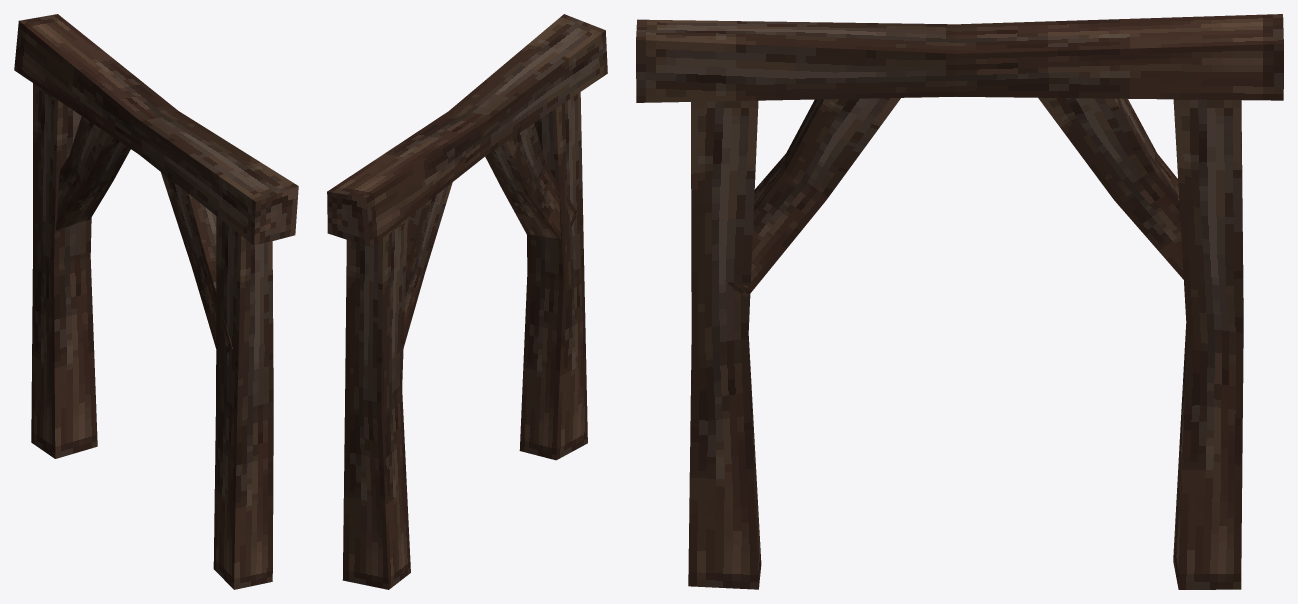
File: Wooden_Arch.fbx
The picture shows the model from 3 angles, left to right: view 1: azimuth 30°, elevation 25°; view 2: azimuth 150°, elevation 25°; view 3: azimuth 270°, elevation 25°; orthographic projection. The views are drawn at different scales.
Visible parts, largest first — view 1: Wooden Arch; view 2: Wooden Arch; view 3: Wooden Arch.
Part boxes in pixels (box(x1,y1,x2,y2)): Wooden Arch: box(14, 14, 298, 589); Wooden Arch: box(327, 14, 607, 589); Wooden Arch: box(636, 14, 1283, 589).
Size of the model in its own units: 39.48 by 340 by 363.
